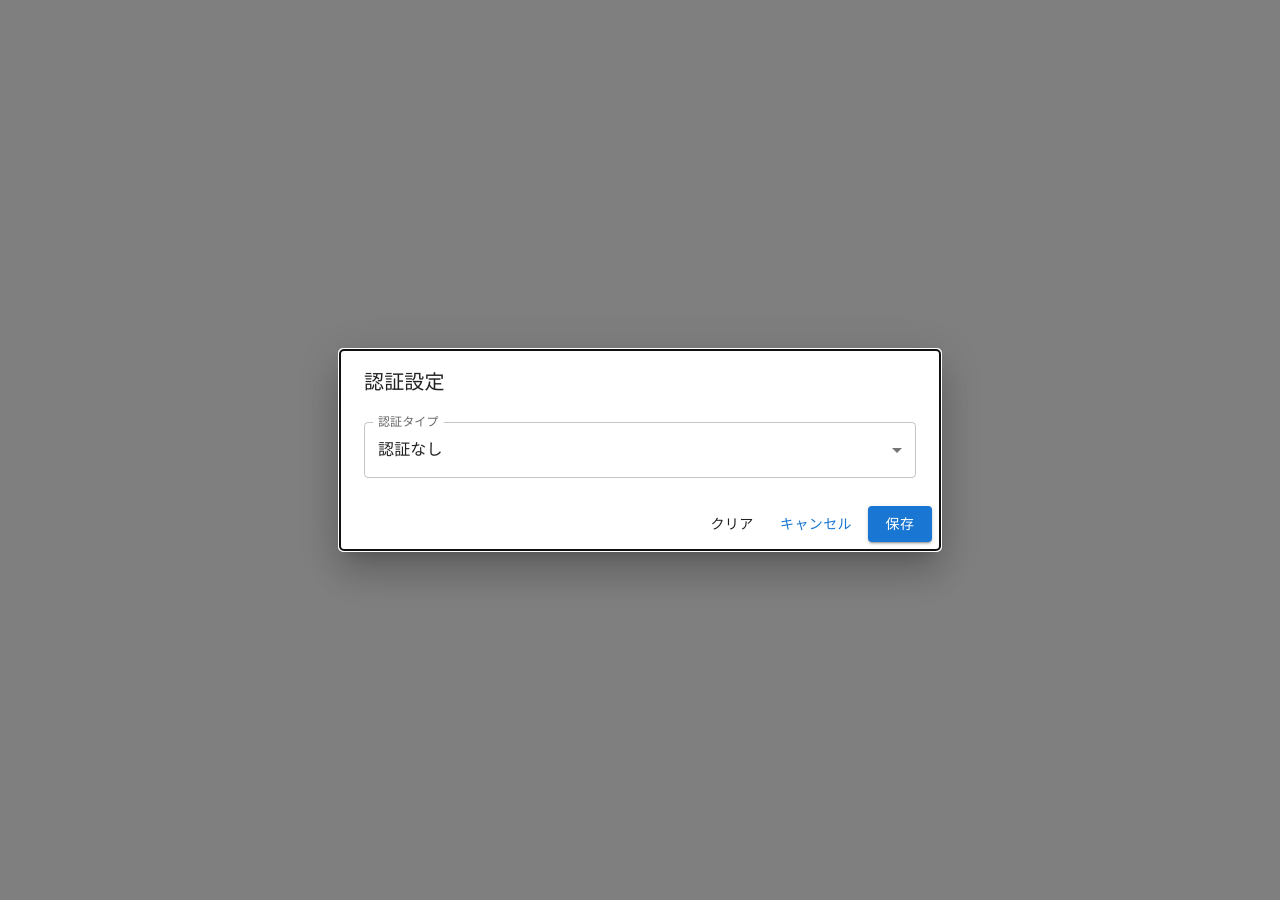
Test case: AuthSettings + FormAnalyzerPanel 統合 › Task 4.3: 手動設定モードへのフォールバック › 手動設定モード選択時は従来のセレクタ入力フィールドを表示する
# フォームログインを選択
Click the dropdown: (410, 450) [378,440,443,459]
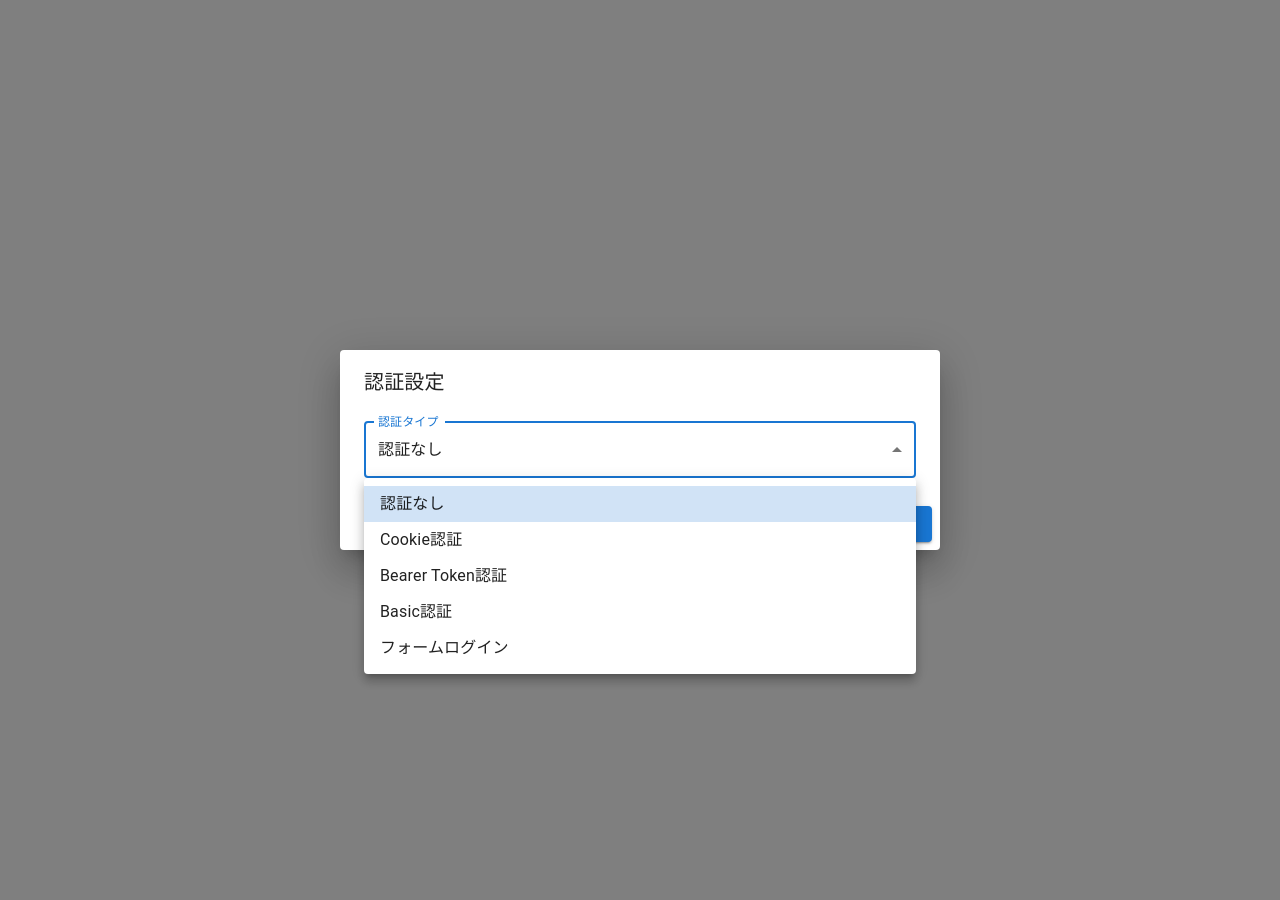
Click the option "フォームログイン": (444, 648) [380,638,509,657]
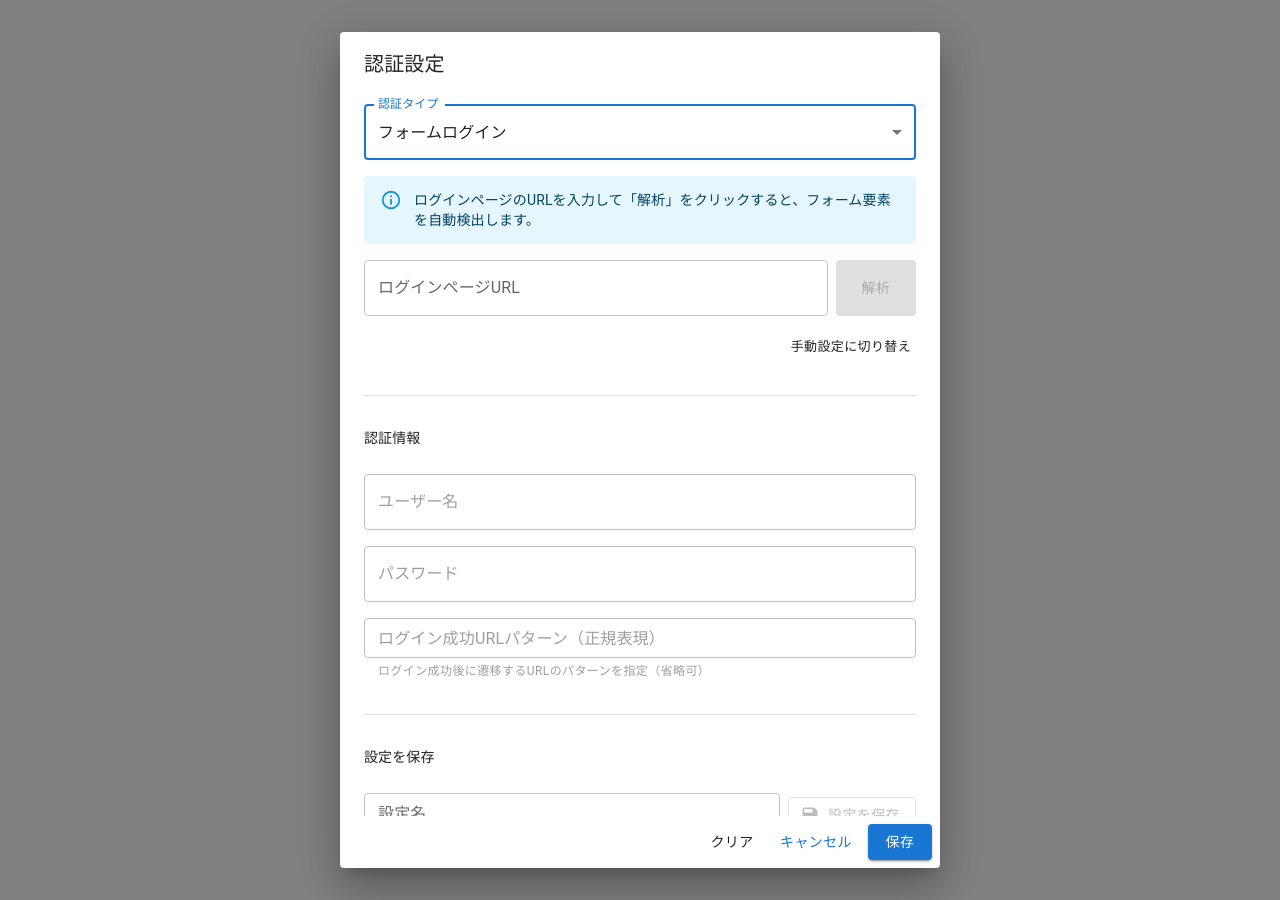
# 手動設定に切り替え
Click the button "手動設定に切り替え": (851, 347) [786,332,916,363]
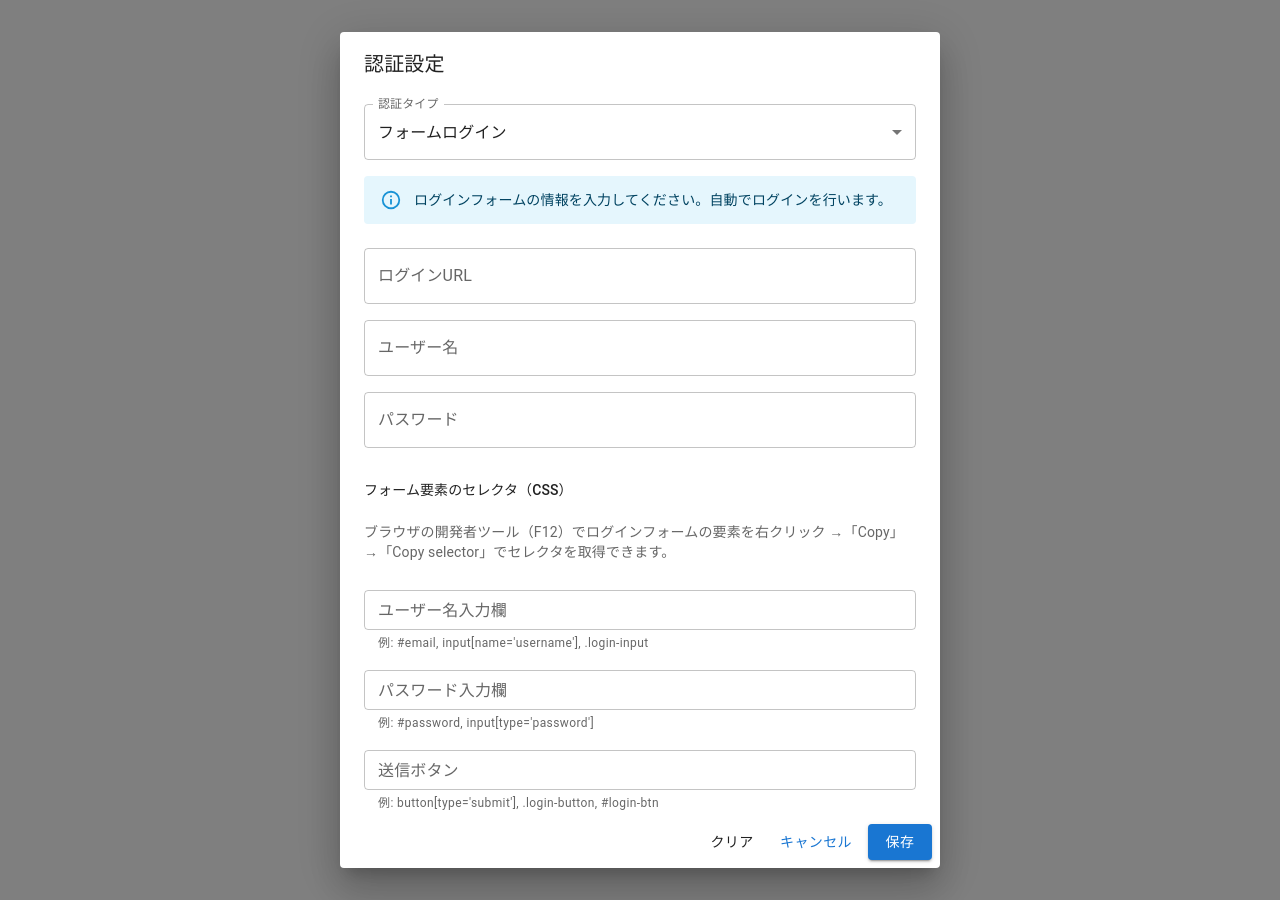
Expected: the field labelled "ユーザー名入力欄" is shown, [364,590,916,630]
Expected: the field labelled "パスワード入力欄" is shown, [364,670,916,710]
Expected: the field labelled "送信ボタン" is shown, [364,750,916,790]
